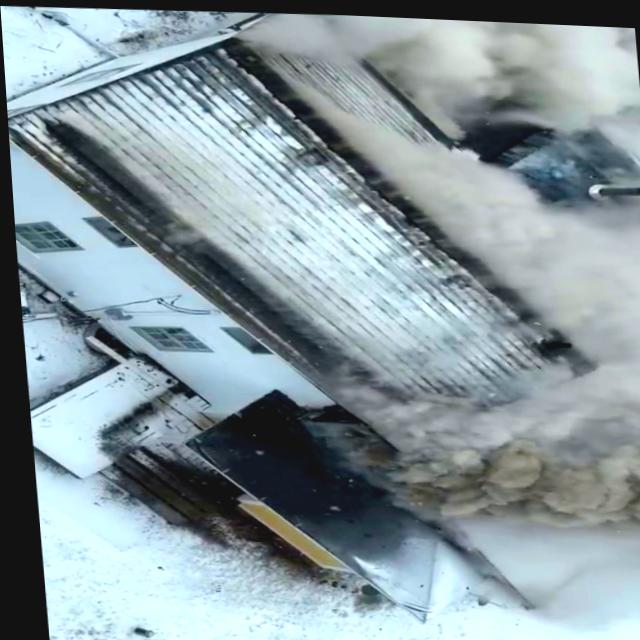smoke: (373, 401, 640, 531)
